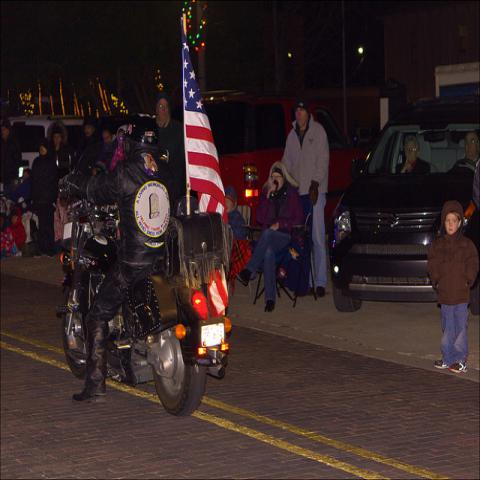car: (328, 94, 480, 315), (200, 91, 369, 234), (13, 117, 85, 141)
motorcycle: (54, 178, 232, 416)
